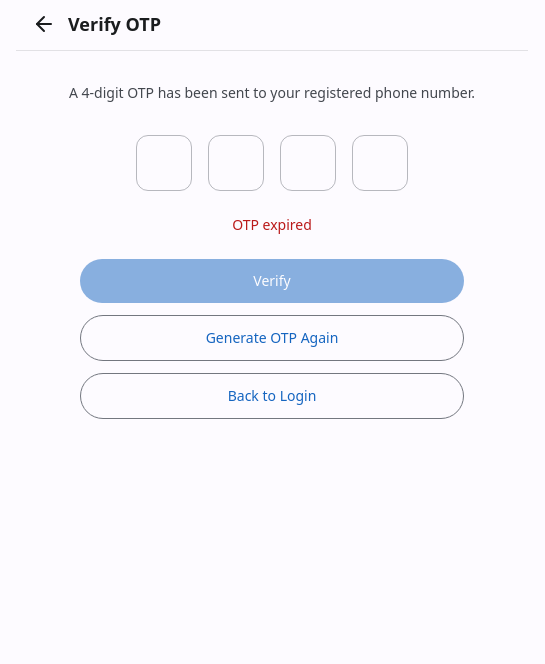
Test case: VerifyOTPPage › resets OTP and timer when Generate OTP Again is clicked
The image size is (545, 664).
Click the button "Generate OTP Again" at [272, 338], box [80, 315, 464, 361]
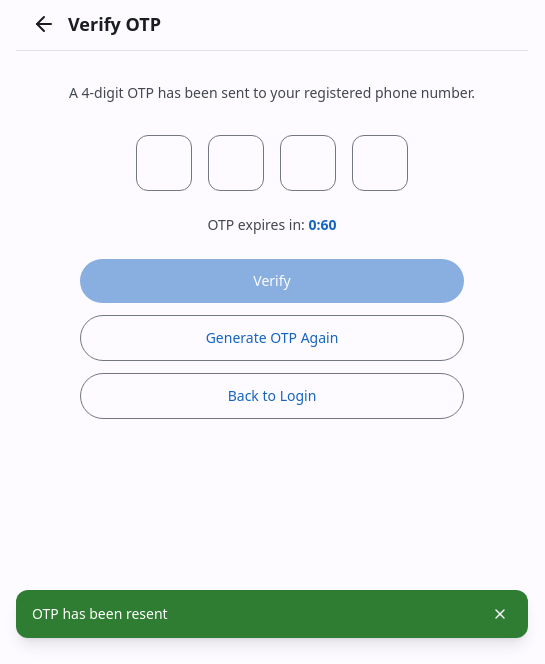
Check: the text "OTP expired" is gone
Check: the text "OTP expires in: 0:60" is shown, box [208, 215, 337, 235]
